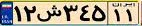character: (35, 1, 63, 26), (62, 2, 79, 24), (90, 3, 107, 24), (22, 1, 37, 24), (77, 2, 92, 23), (123, 8, 137, 24), (111, 8, 123, 24), (14, 3, 23, 24)
